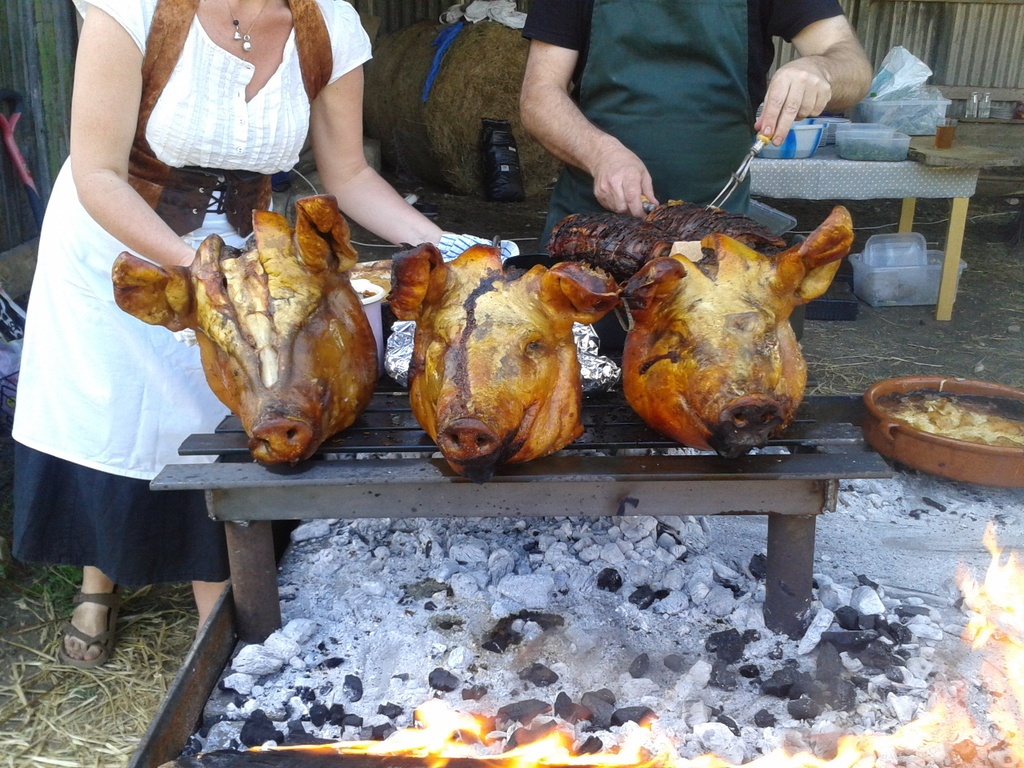Person: (521, 0, 873, 253)
